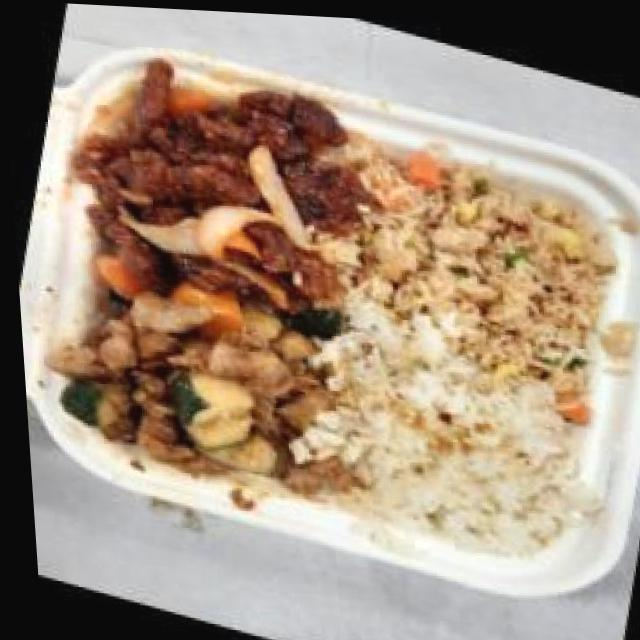Beijing Beef: (52, 35, 399, 324)
Fried Rice: (328, 133, 629, 393)
Kung Pao Chicken: (23, 245, 351, 506)
White Steamed Rice: (306, 325, 599, 571)
